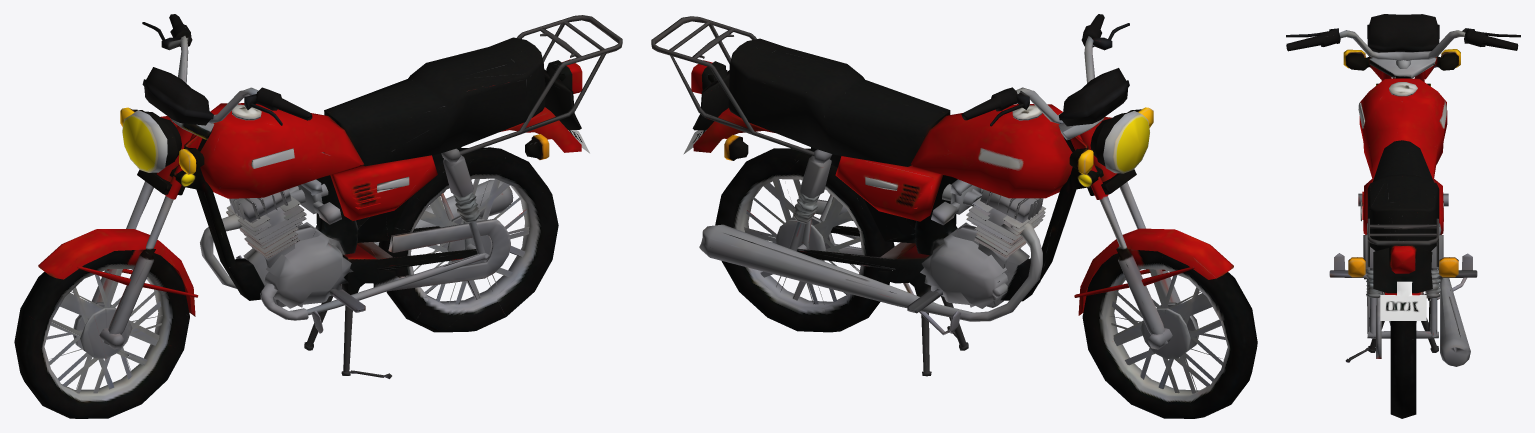
The model's file is moto.glb.
3 views of the same model, side by side, from view 1: azimuth 30°, elevation 25°; view 2: azimuth 150°, elevation 25°; view 3: azimuth 270°, elevation 25° (orthographic). The views are drawn at different scales.
Visible parts, largest first — view 1: geometry_0; view 2: geometry_0; view 3: geometry_0.
Part boxes in pixels (box(x1,y1,x2,y2)): geometry_0: box(14, 14, 622, 418); geometry_0: box(651, 14, 1257, 418); geometry_0: box(1286, 14, 1520, 418).
Bounding box in the file's own units: 0.9551 × 0.5127 × 0.3882.
1 material, 1 textured.
